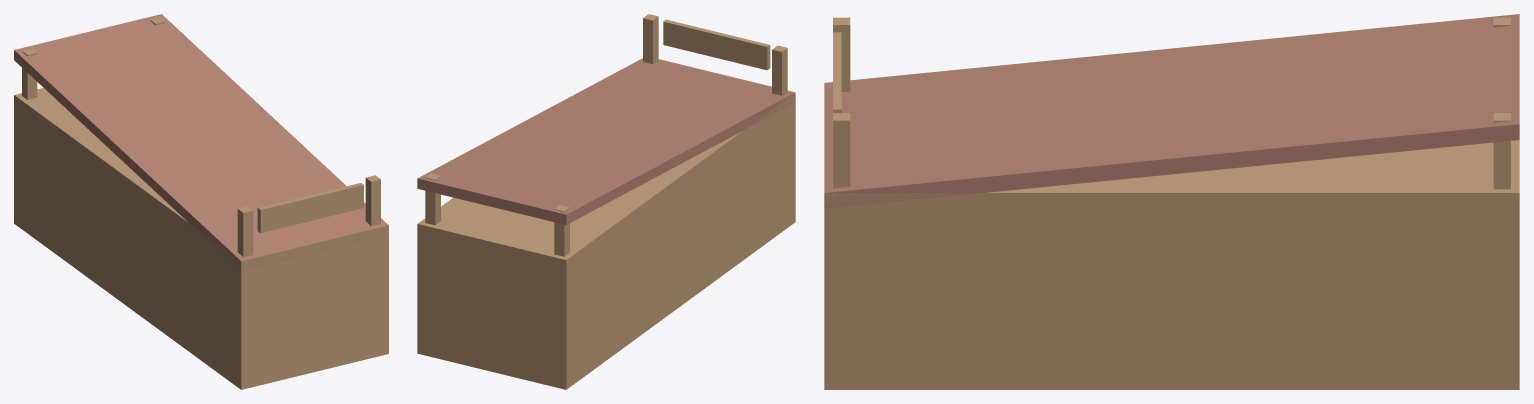
File: stall.glb
The picture shows the model from 3 angles, left to right: view 1: azimuth 30°, elevation 25°; view 2: azimuth 150°, elevation 25°; view 3: azimuth 270°, elevation 25°; orthographic projection. The views are drawn at different scales.
Visible parts, largest first — view 1: StallCounter, StallAwning, StallSign, StallPost_-0.52_-1.52, StallPost_0.52_-1.52, StallPost_-0.52_1.52; view 2: StallCounter, StallAwning, StallSign, StallPost_-0.52_-1.52, StallPost_0.52_-1.52, StallPost_-0.52_1.52, StallPost_0.52_1.52; view 3: StallCounter, StallAwning, StallPost_0.52_-1.52, StallPost_0.52_1.52, StallPost_-0.52_-1.52, StallSign.
Boxes of the visible parts, x1=… form: StallCounter: x1=14, y1=88, x2=388, y2=389; StallAwning: x1=14, y1=14, x2=388, y2=271; StallSign: x1=257, y1=183, x2=363, y2=233; StallPost_-0.52_-1.52: x1=237, y1=206, x2=253, y2=257; StallPost_0.52_-1.52: x1=365, y1=175, x2=380, y2=226; StallPost_-0.52_1.52: x1=22, y1=48, x2=37, y2=99; StallCounter: x1=417, y1=93, x2=795, y2=389; StallAwning: x1=417, y1=58, x2=795, y2=224; StallSign: x1=663, y1=19, x2=770, y2=70; StallPost_-0.52_-1.52: x1=772, y1=45, x2=787, y2=95; StallPost_0.52_-1.52: x1=643, y1=14, x2=658, y2=64; StallPost_-0.52_1.52: x1=554, y1=205, x2=569, y2=256; StallPost_0.52_1.52: x1=425, y1=173, x2=440, y2=225; StallCounter: x1=824, y1=140, x2=1519, y2=389; StallAwning: x1=824, y1=14, x2=1519, y2=208; StallPost_0.52_-1.52: x1=833, y1=113, x2=850, y2=188; StallPost_0.52_1.52: x1=1493, y1=113, x2=1510, y2=189; StallPost_-0.52_-1.52: x1=833, y1=17, x2=850, y2=91; StallSign: x1=833, y1=32, x2=841, y2=112.
Size of the model in its own units: 1.2 by 1.35 by 3.2.
